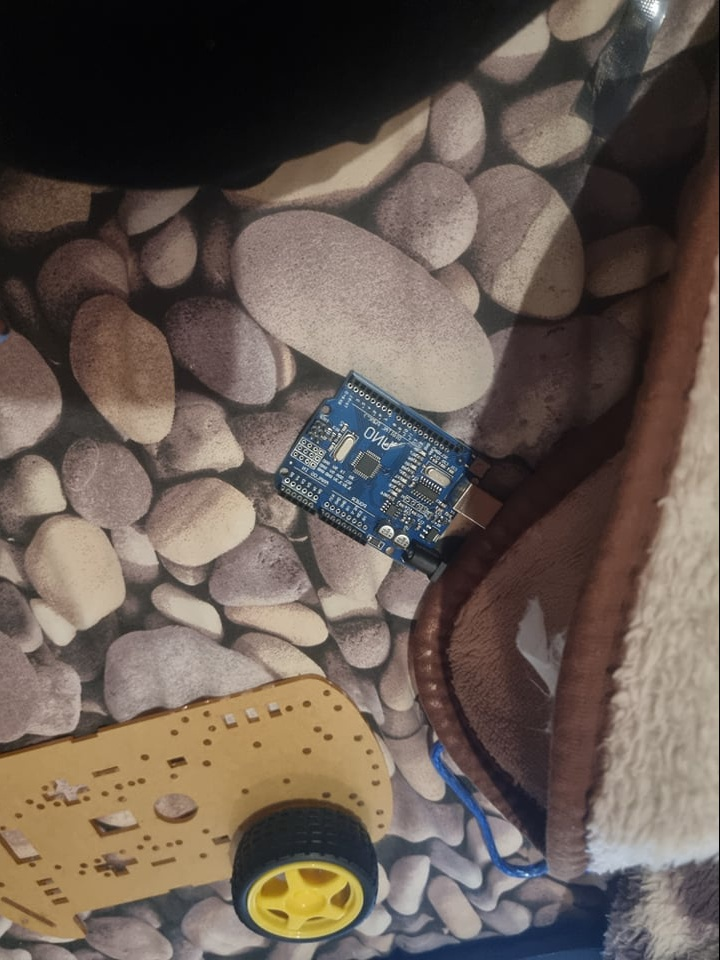UNO R3: (277, 367, 503, 584)
